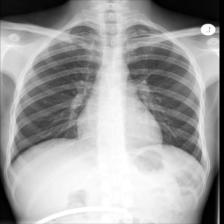normal: (7, 19, 209, 170)
